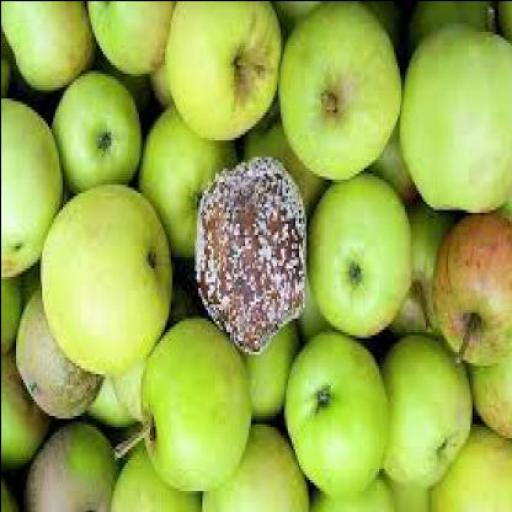biodegradable: (39, 189, 175, 378), (113, 318, 254, 492), (401, 5, 511, 217), (280, 2, 402, 181), (196, 164, 309, 356), (305, 178, 414, 340), (286, 337, 388, 504), (166, 2, 284, 146), (376, 340, 474, 490), (142, 109, 238, 261), (433, 214, 511, 372), (17, 287, 104, 423), (52, 72, 142, 198), (2, 97, 63, 278), (387, 194, 459, 338), (199, 426, 314, 511), (2, 2, 96, 98), (242, 114, 329, 215), (24, 426, 120, 511), (430, 426, 510, 511), (89, 3, 177, 78), (276, 2, 402, 53), (240, 328, 302, 423), (2, 353, 50, 473), (113, 453, 203, 511), (362, 120, 420, 206), (408, 2, 511, 44), (309, 479, 397, 511), (472, 366, 510, 440), (88, 376, 132, 431), (112, 362, 146, 426), (298, 287, 337, 336), (2, 275, 24, 359), (118, 76, 152, 122), (389, 479, 432, 511), (20, 259, 42, 319), (149, 67, 175, 111), (2, 26, 16, 100), (1, 470, 16, 511)
